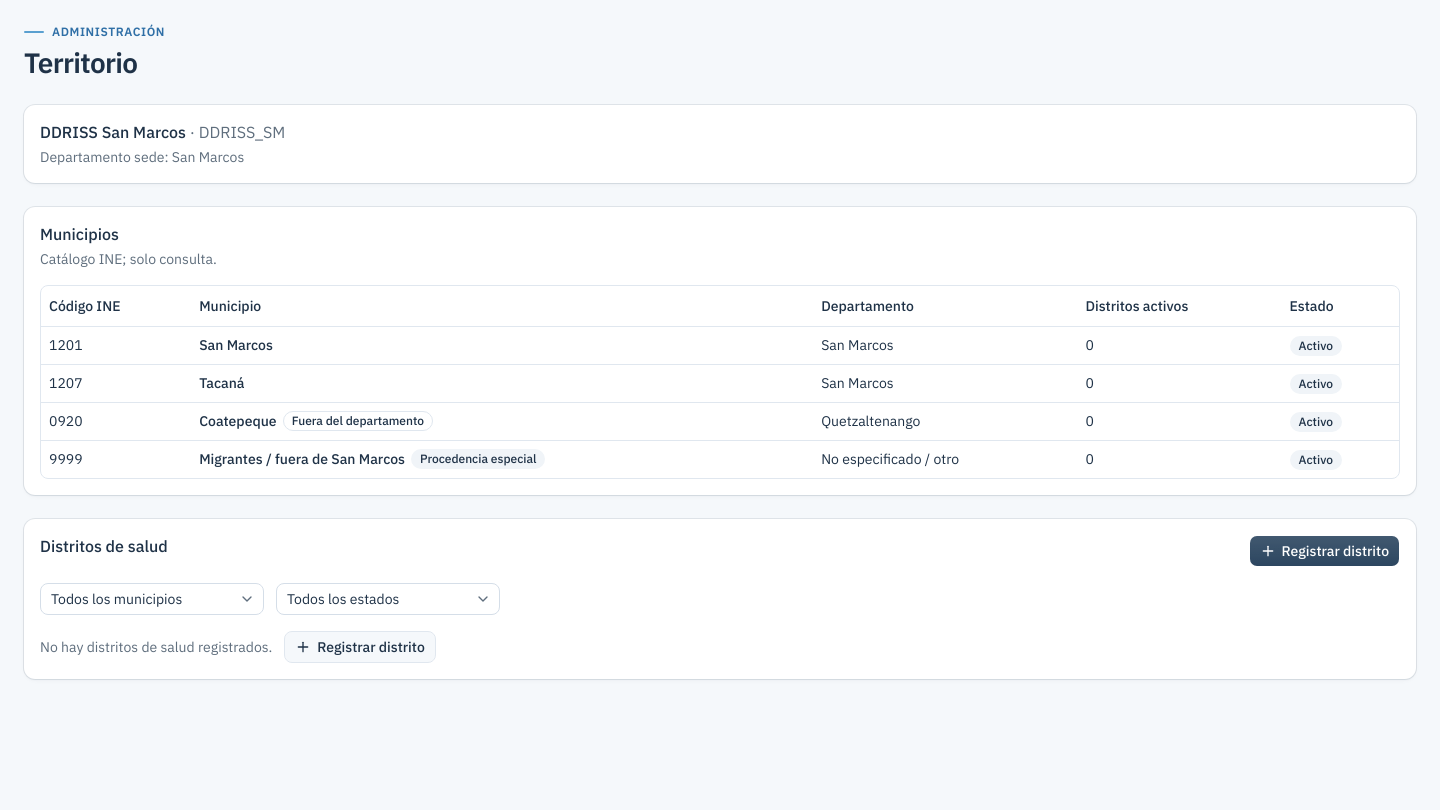
Test case: sin distritos, el aviso trae "Registrar distrito", que abre el Dialog
Click the button "Registrar distrito" next to "No hay distritos de salud registrados." at x=360, y=647, box [284,631,436,663]
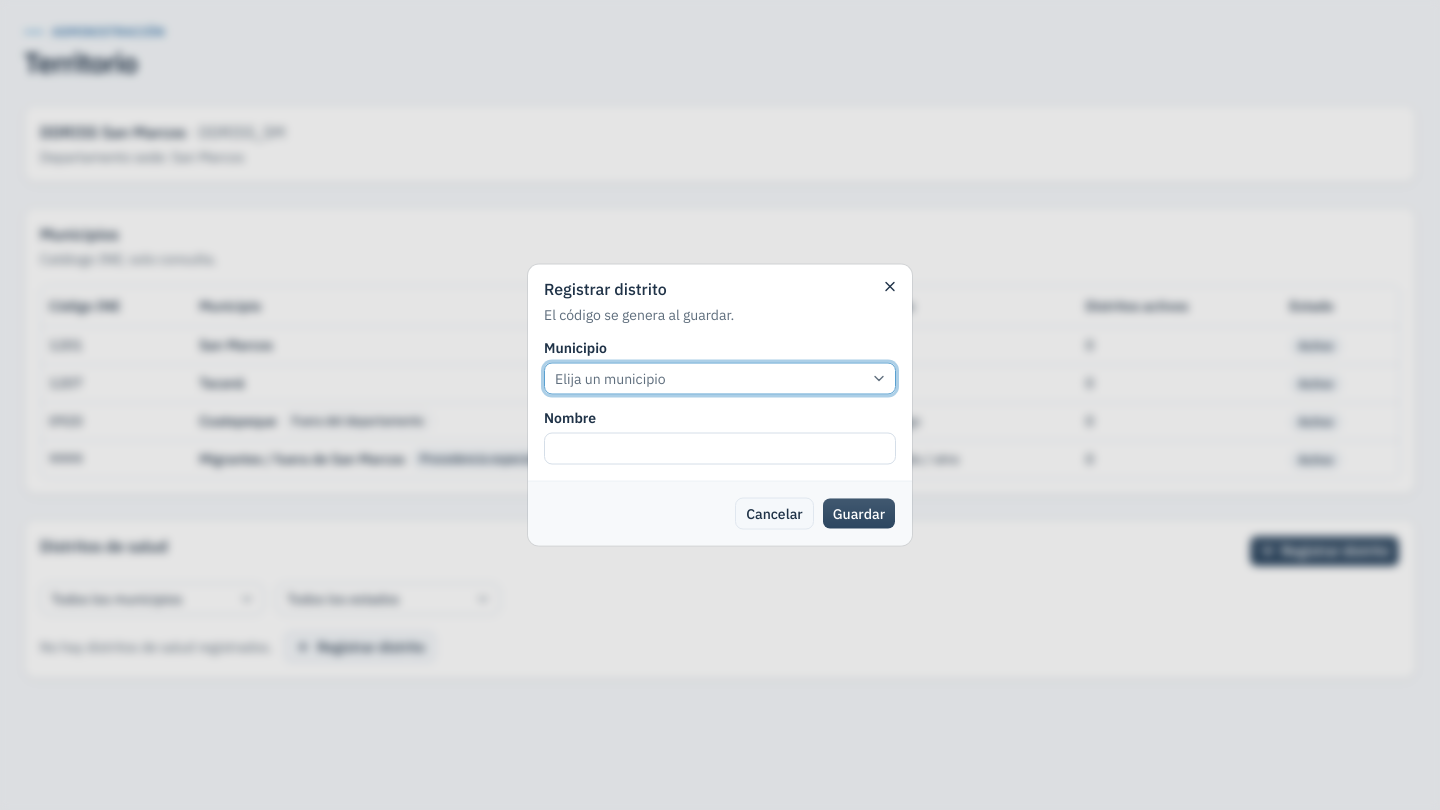
Expected: the text "El código se genera al guardar." is shown, [544,306,734,324]
